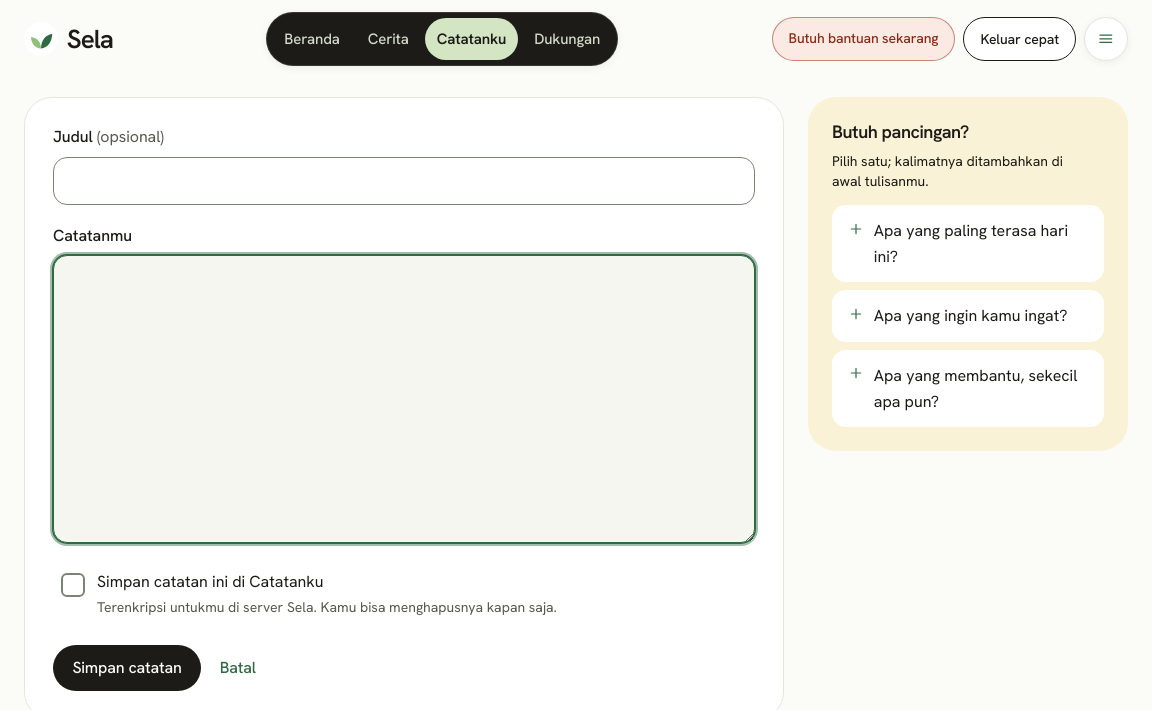
home, notes and conversations › saves a note only with the storage choice and opens its detail
The width and height of the screenshot is (1152, 710).
(page scrolled)
Type "Tulisan sintetis yang aku pilih untuk disimpan." into the text box labelled "Catatanmu" at (404, 399), box [53, 255, 755, 543]
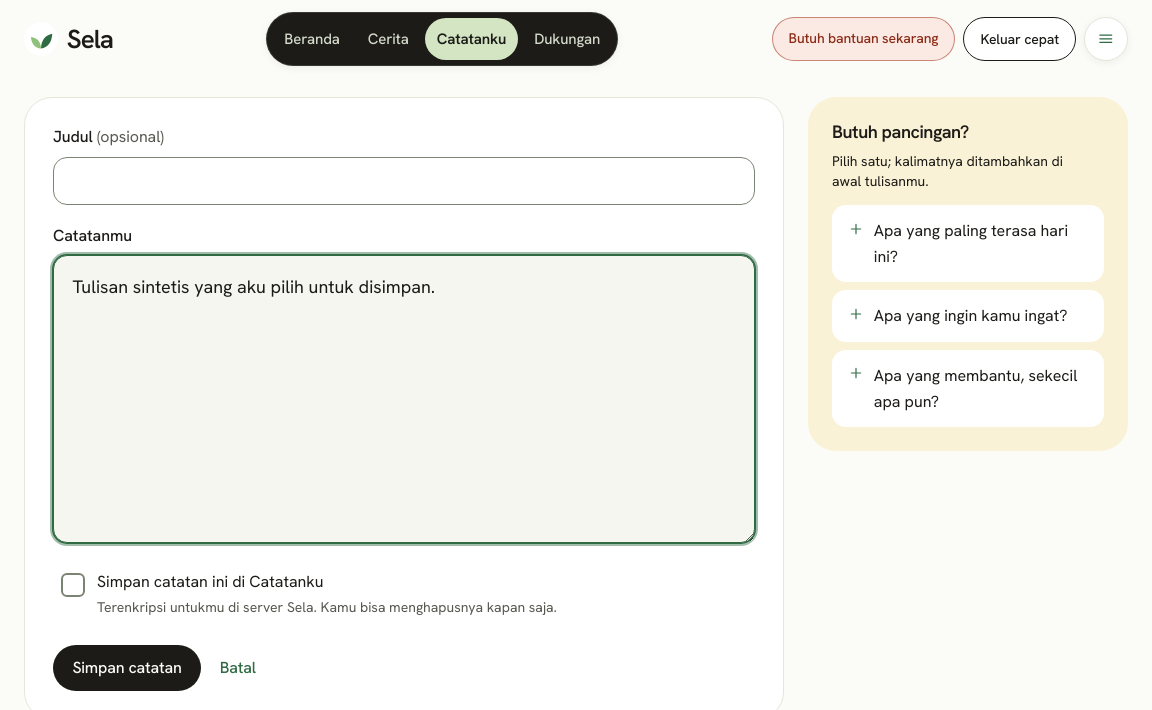
Click the checkbox labelled "Simpan catatan ini di Catatanku" at (309, 594), box [61, 571, 557, 616]
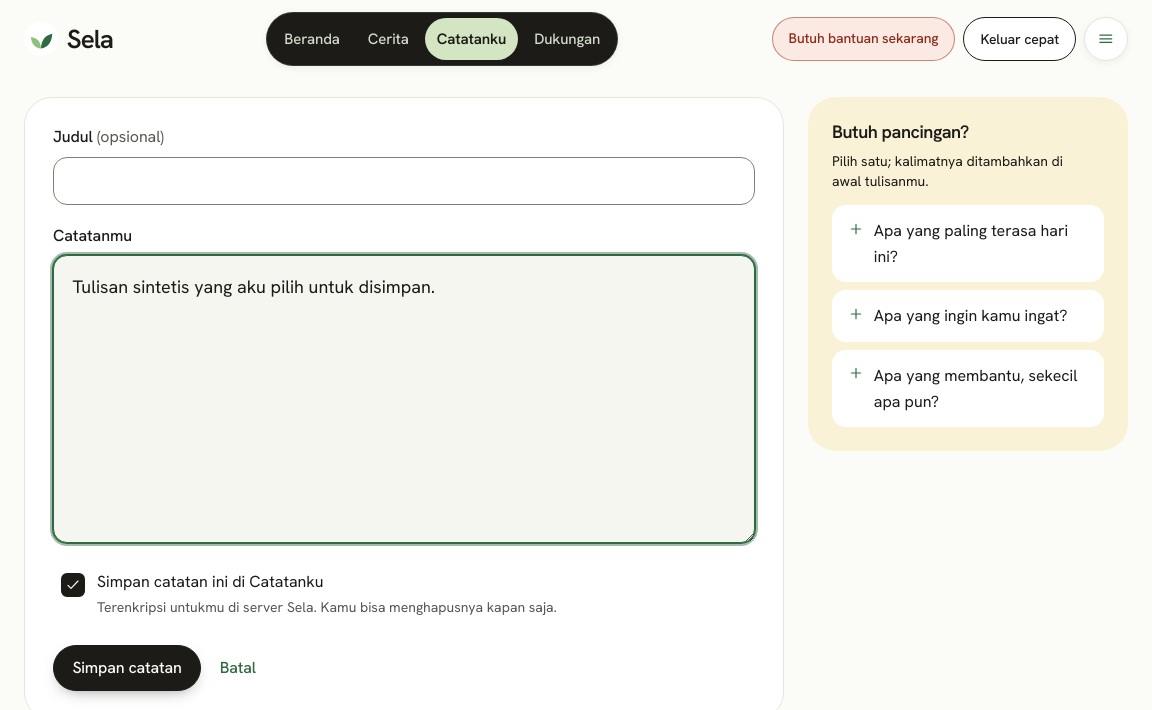
Click the button "Simpan catatan" at (127, 668), box [53, 645, 201, 690]
(page scrolled)
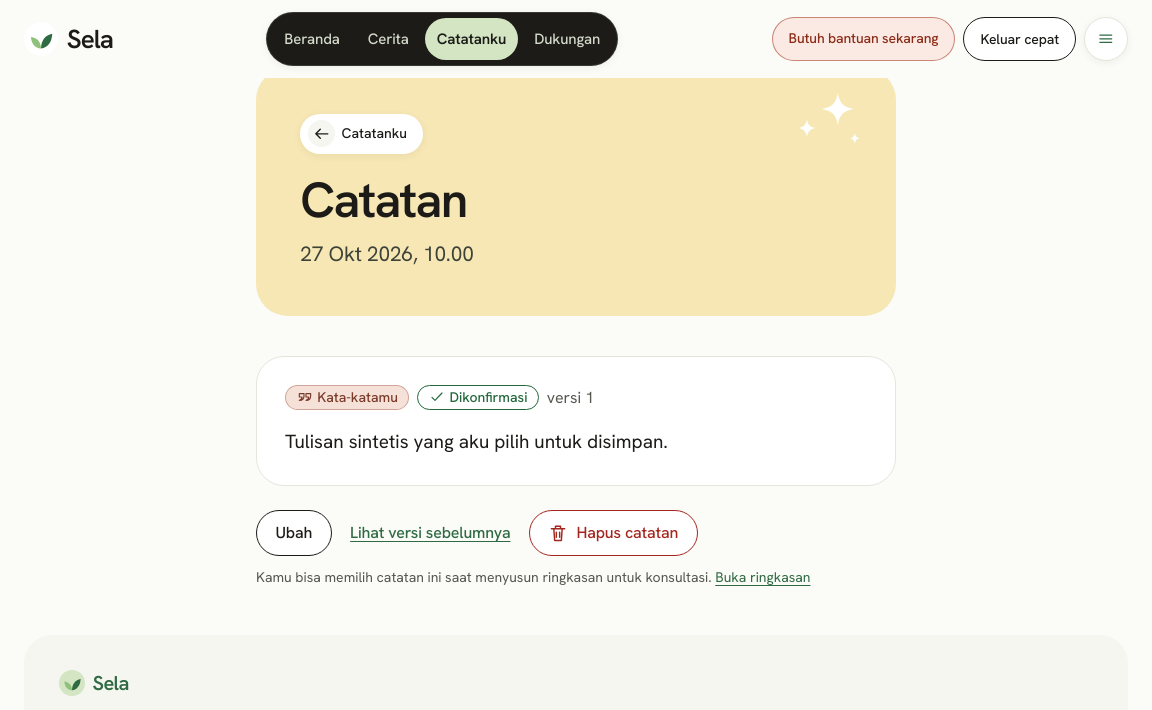
Result: the text "Tulisan sintetis yang aku pilih untuk disimpan." is shown at [285, 429, 668, 454]
